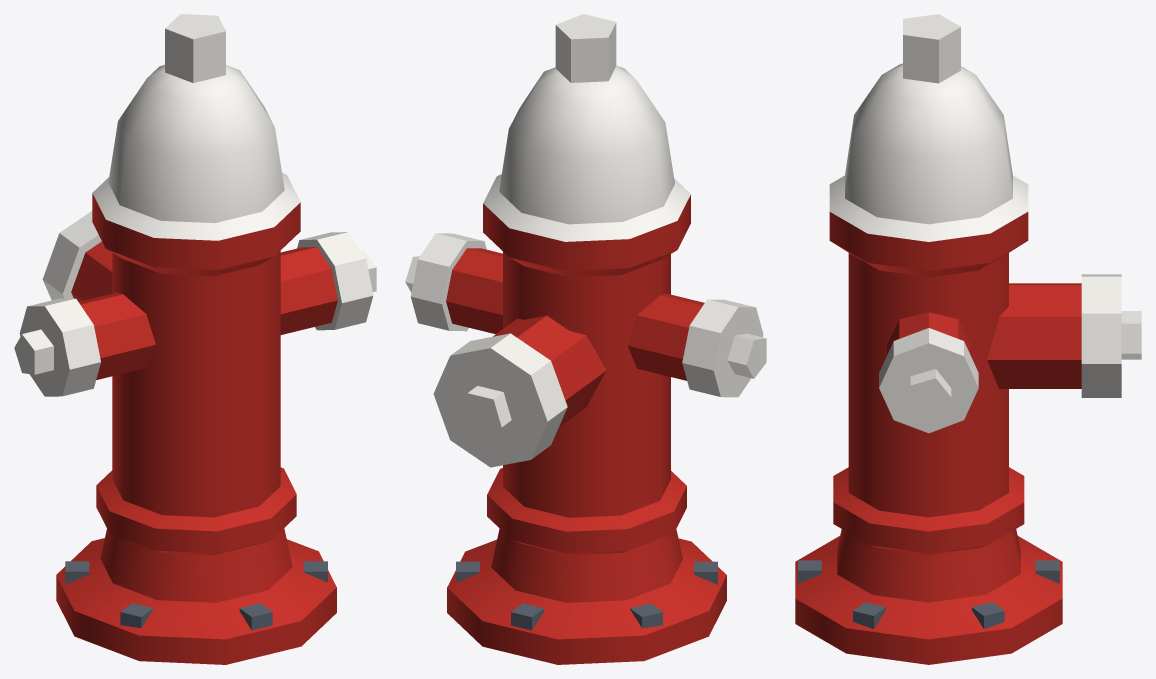
File: hydrant.glb
3 views of the same model, side by side, from view 1: azimuth 30°, elevation 25°; view 2: azimuth 150°, elevation 25°; view 3: azimuth 270°, elevation 25° (orthographic).
Parts seen in each view (by area): view 1: hydrant; view 2: hydrant; view 3: hydrant.
Part boxes in pixels (x1,y1,x2,y2): hydrant: [14, 14, 376, 664]; hydrant: [405, 14, 766, 664]; hydrant: [795, 14, 1141, 664].
Bounding box in the file's own units: 0.49 × 0.795 × 0.4314.
